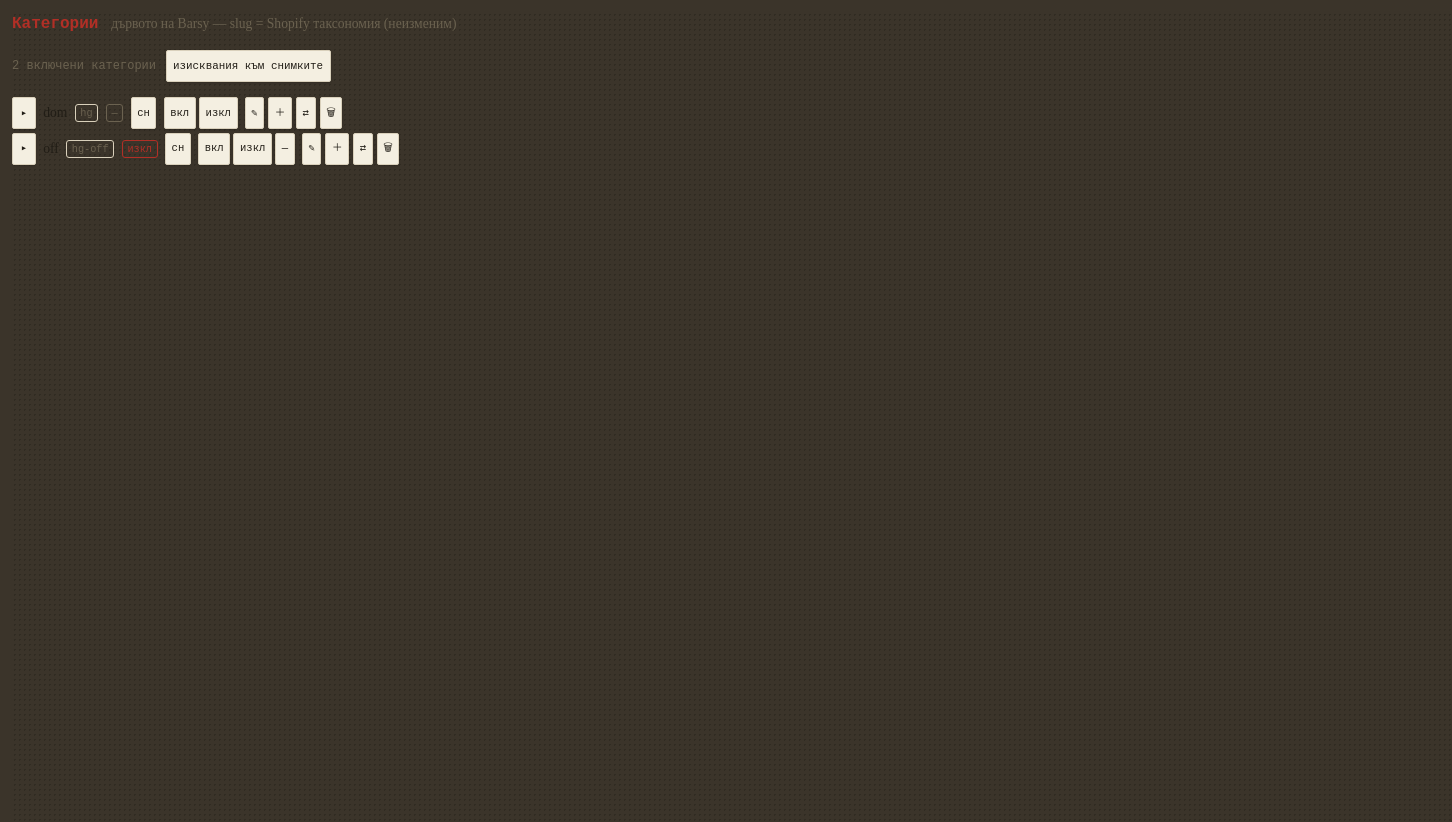
видимост на категориите › shows the photo rules on request
The width and height of the screenshot is (1452, 822).
Expected: the text "dom" is shown, [43,102,67,124]
Expected: the text "2000px" is not shown
Click the button "изисквания към снимките" at (248, 66), box [166,50,330,82]
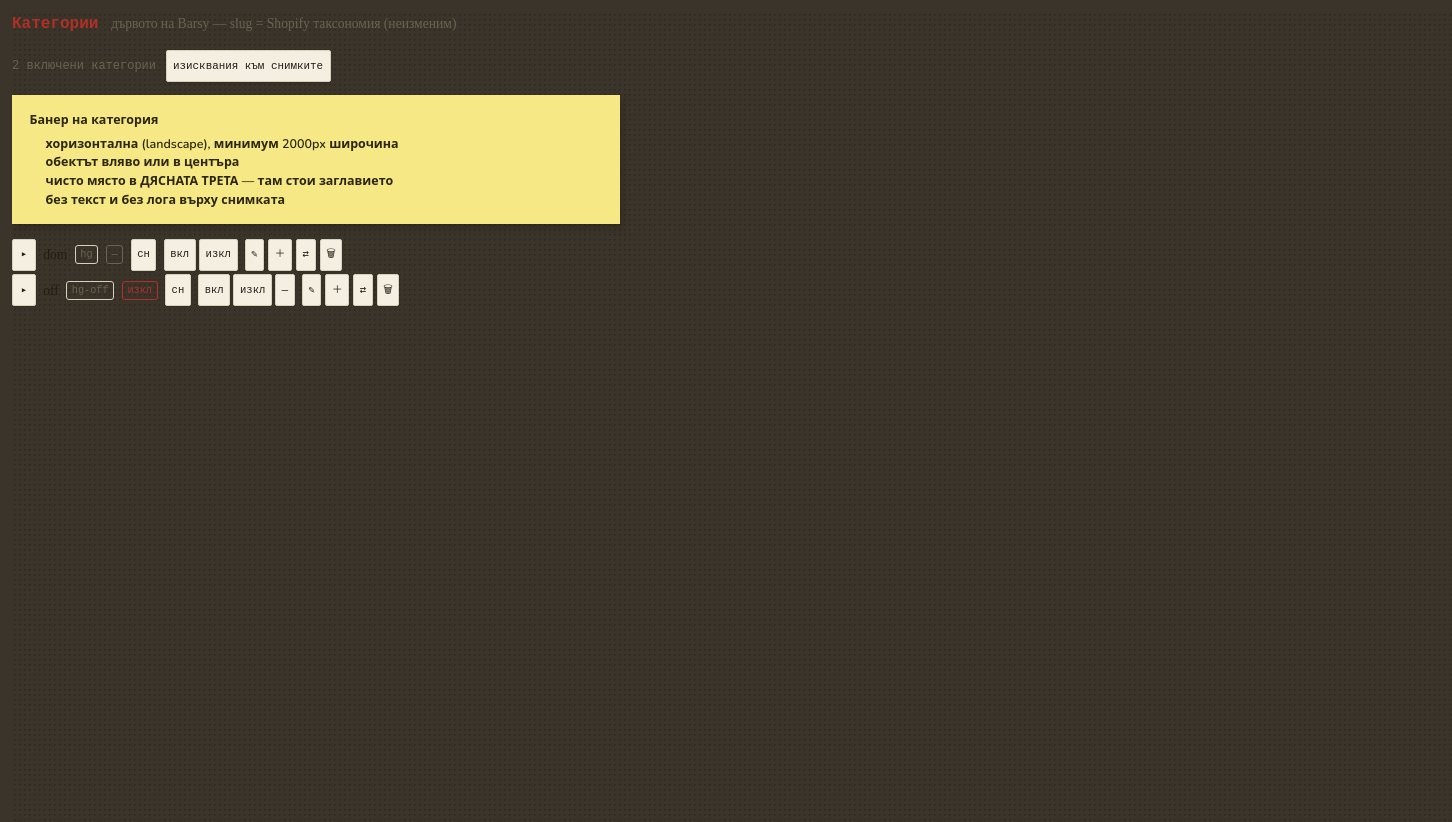
Expected: the list item "хоризонтална (landscape), минимум 2000px широчина" is shown, [46,135,399,152]
Expected: the list item "чисто място в ДЯСНАТА ТРЕТА — там стои заглавието" is shown, [46,172,393,189]
